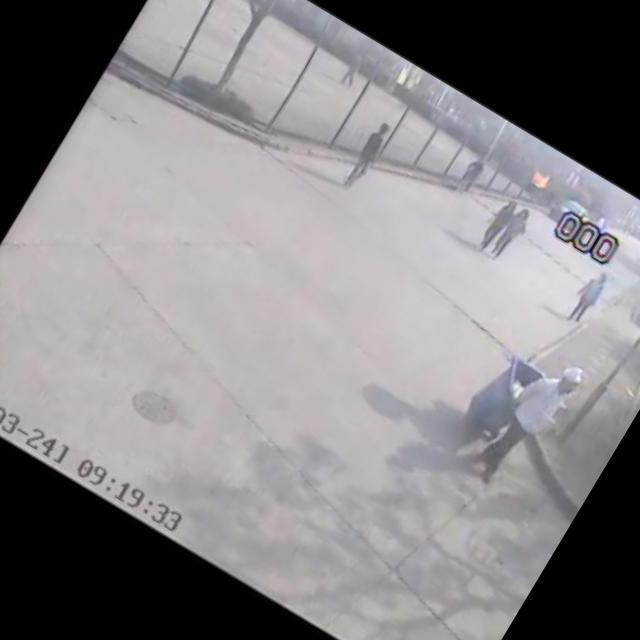person: (466, 345, 590, 503), (334, 114, 399, 200), (482, 198, 541, 270), (558, 264, 616, 333), (471, 191, 523, 260), (332, 47, 373, 98)
